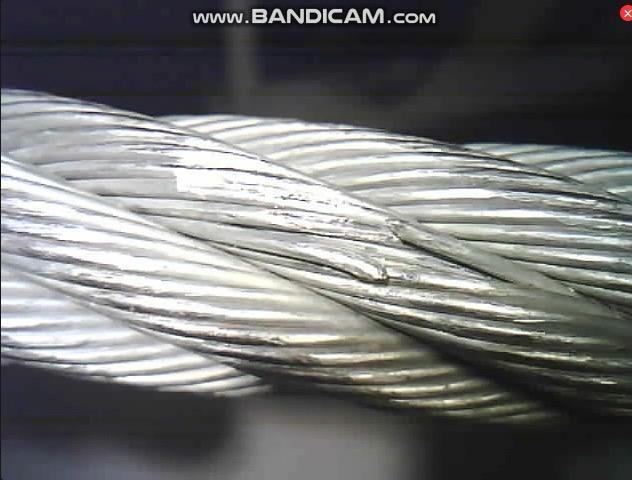break: (335, 214, 421, 290)
